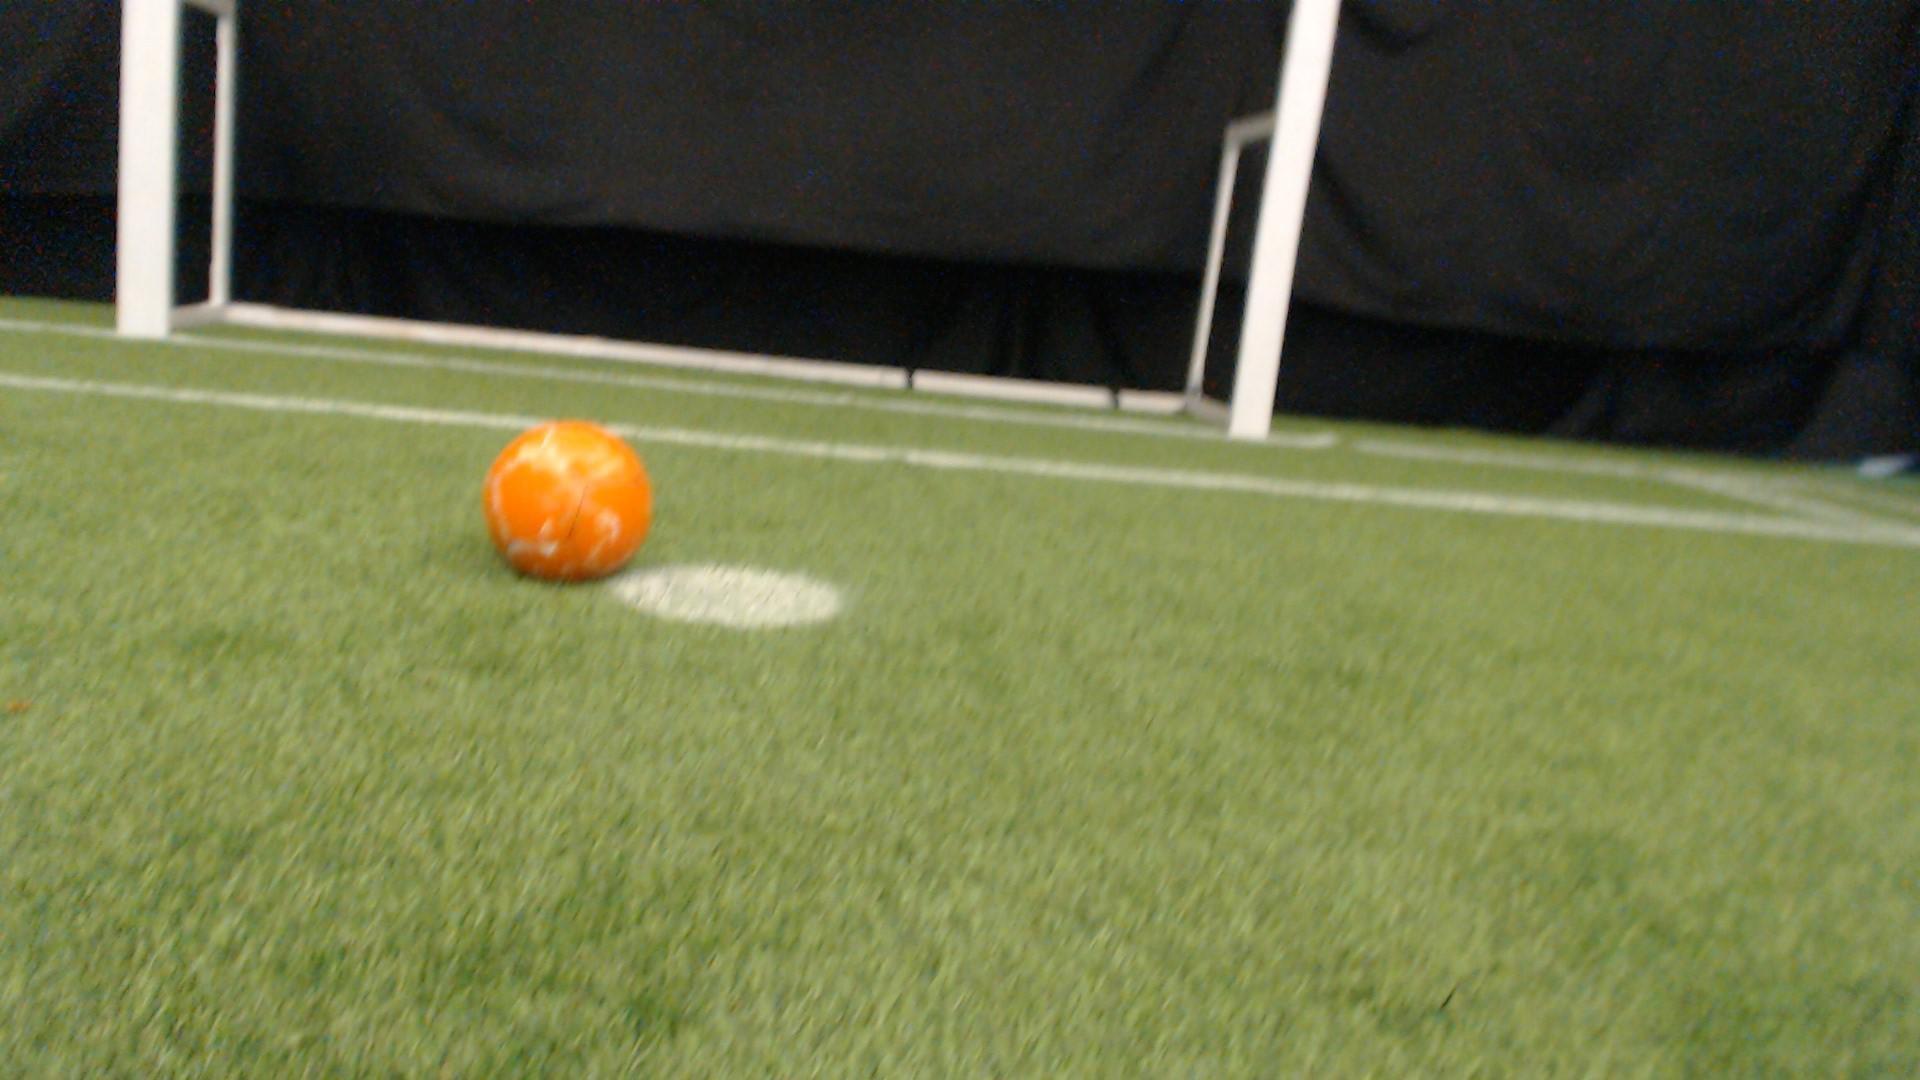bola: (462, 396, 676, 595)
